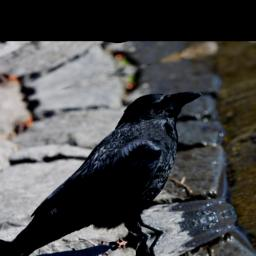Crow: (0, 79, 247, 256)
